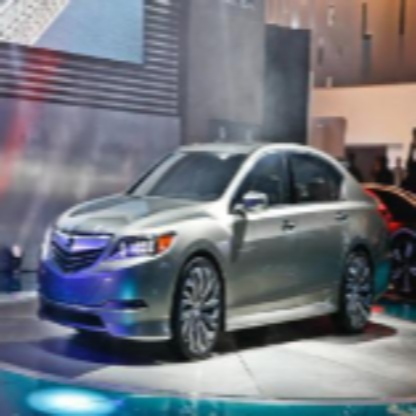Vehicle: (36, 139, 397, 365)
